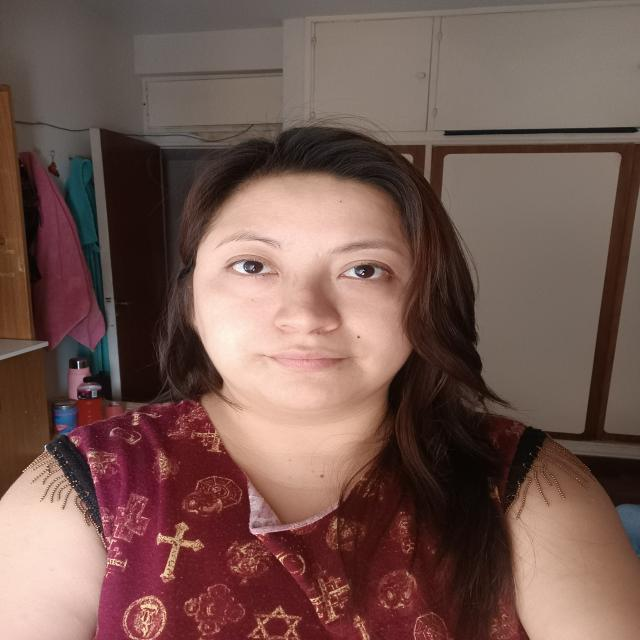eyebrow: (332, 237, 410, 260), (215, 230, 288, 252)
